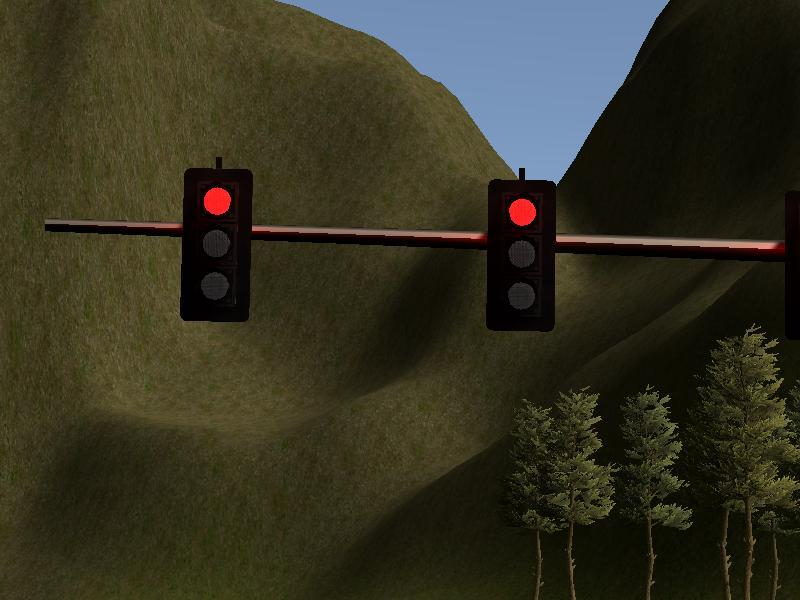Red: (183, 168, 248, 321), (489, 179, 553, 329)
